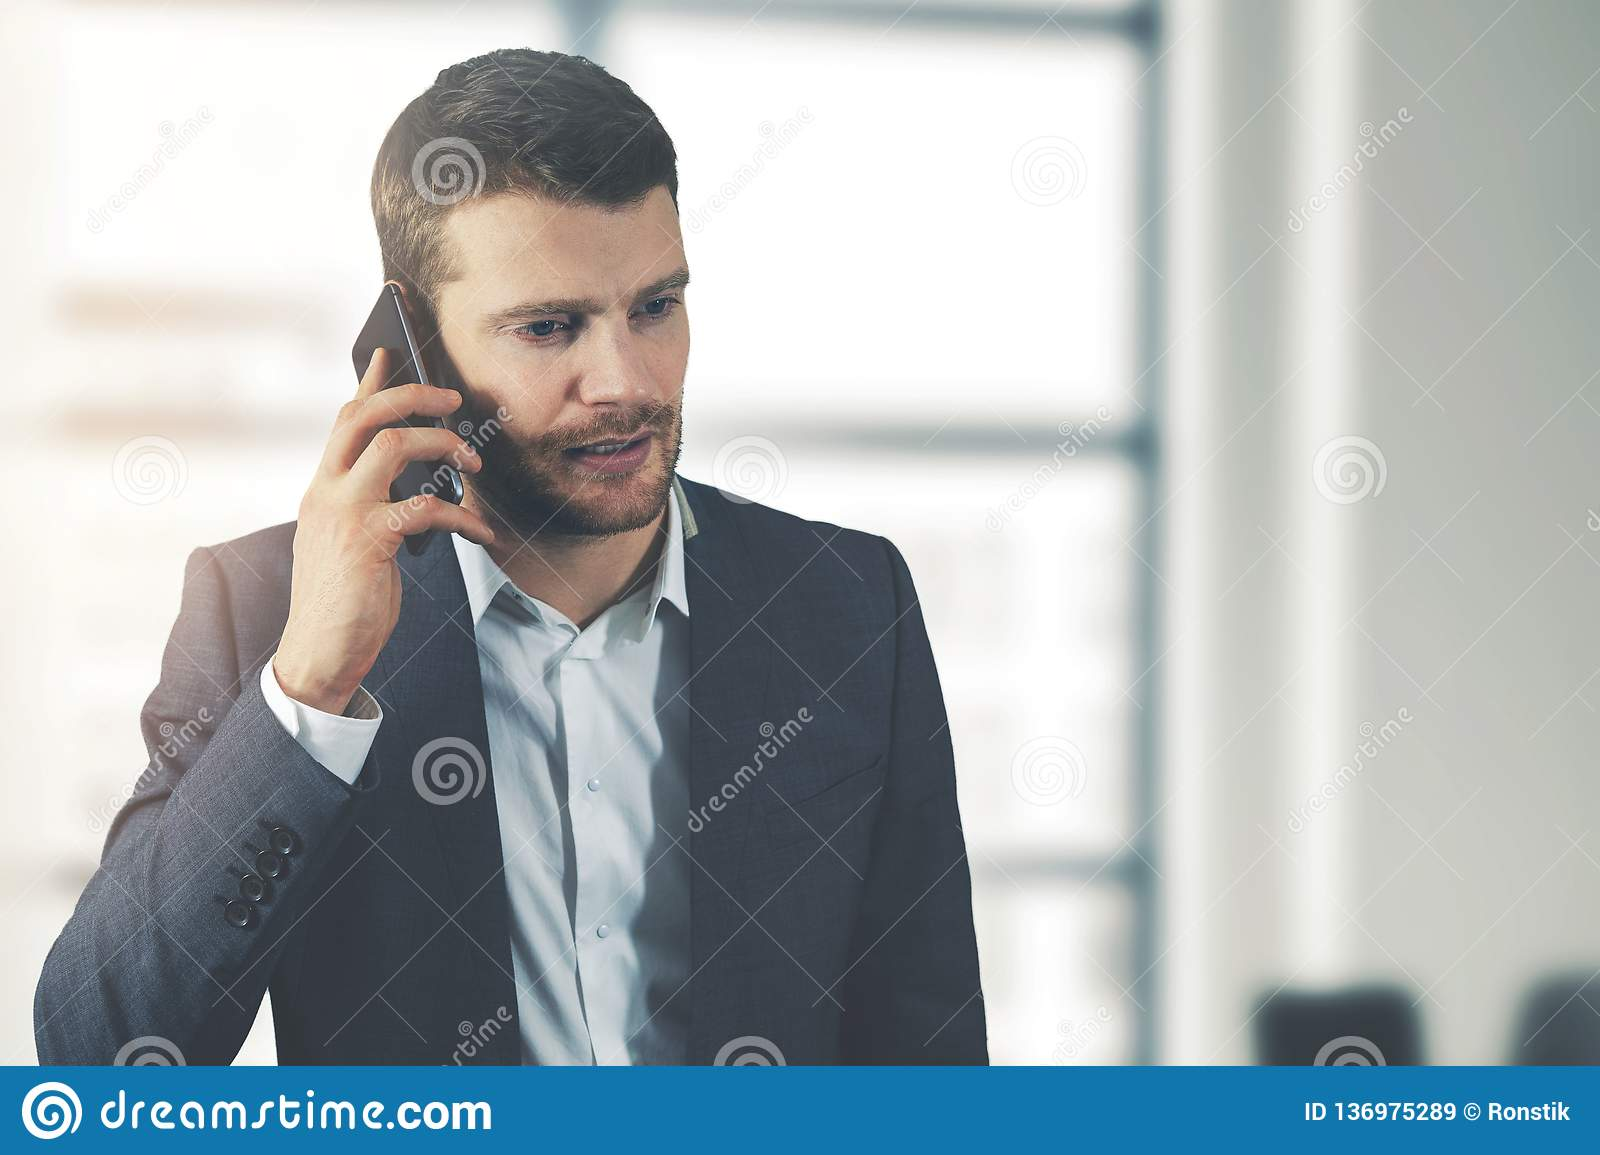phone: (343, 277, 471, 563)
talk: (293, 252, 694, 707)
